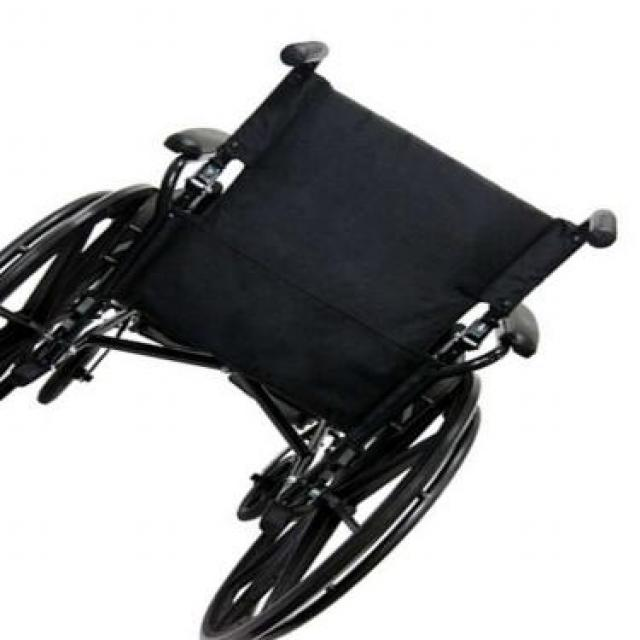wheelchair: (4, 30, 620, 640)
